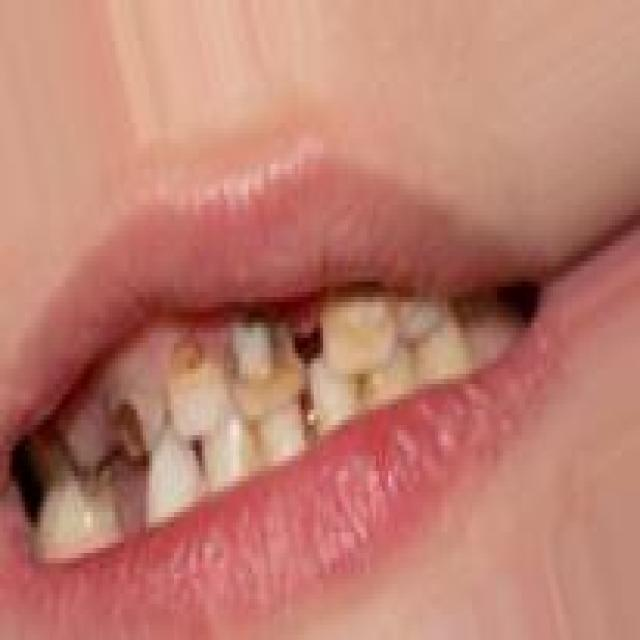caries: (223, 298, 301, 418), (158, 321, 221, 430), (102, 371, 170, 466)
